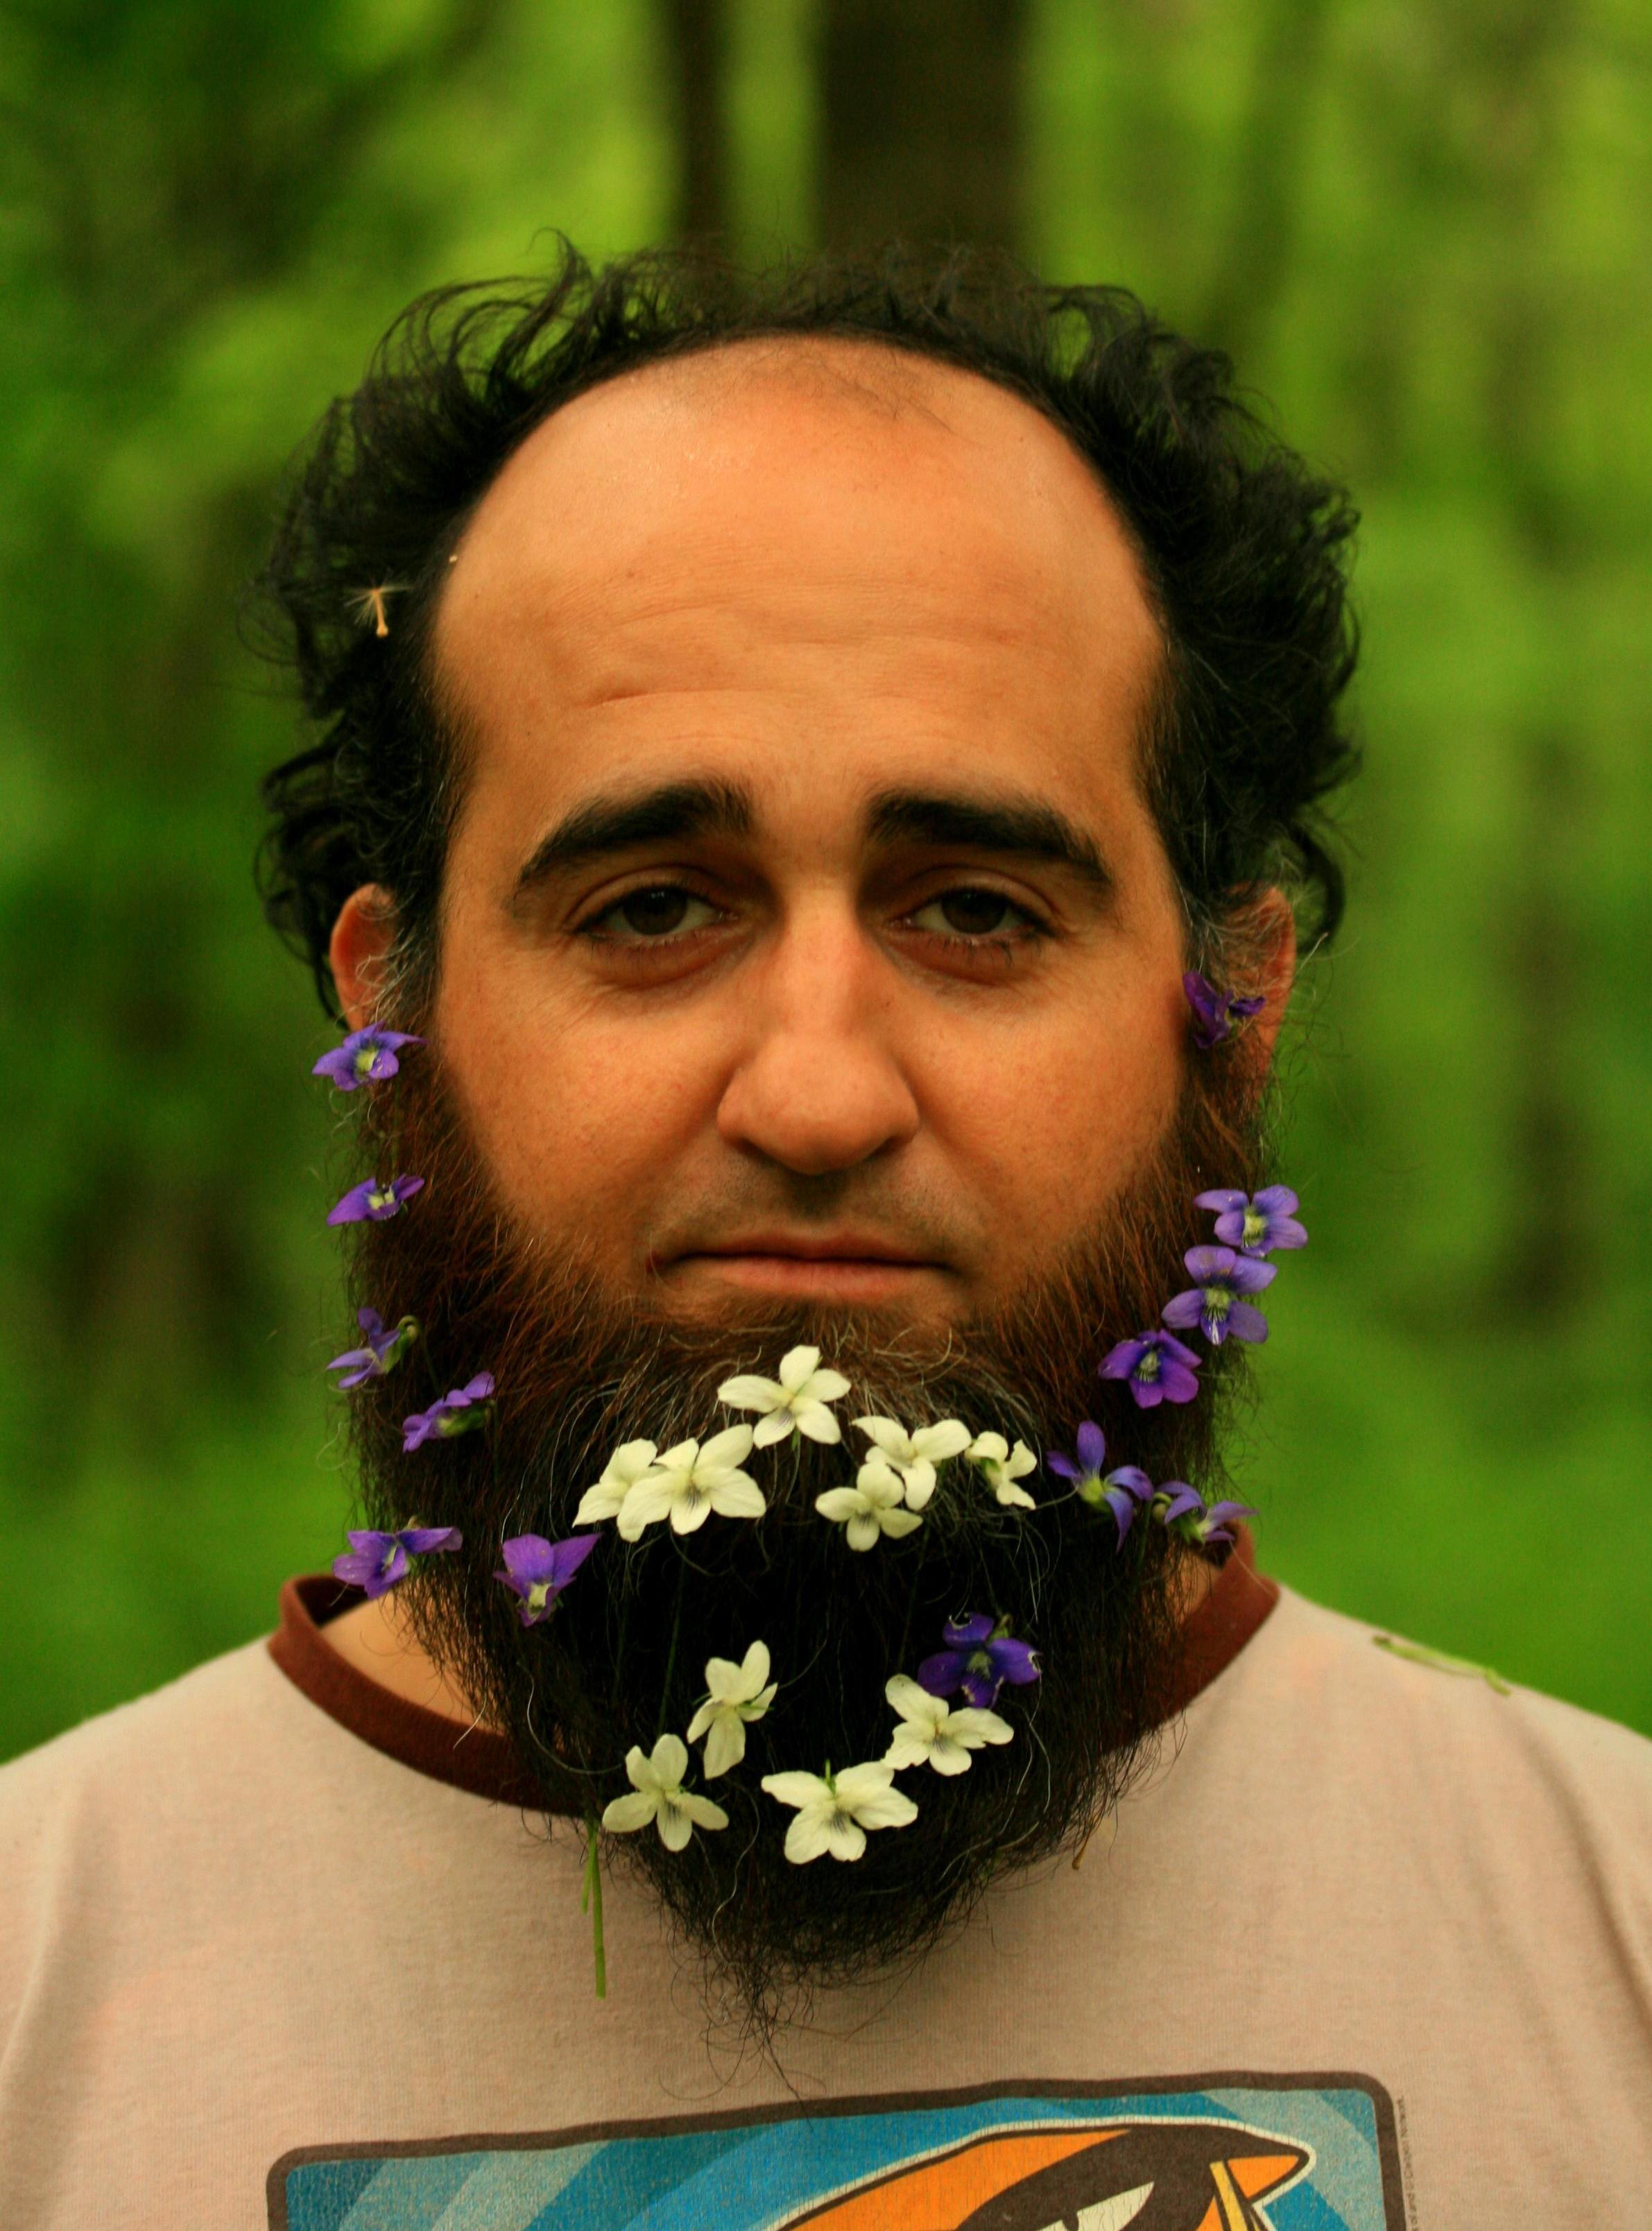Eyebags: (564, 939, 757, 1023), (869, 941, 1048, 1016)
